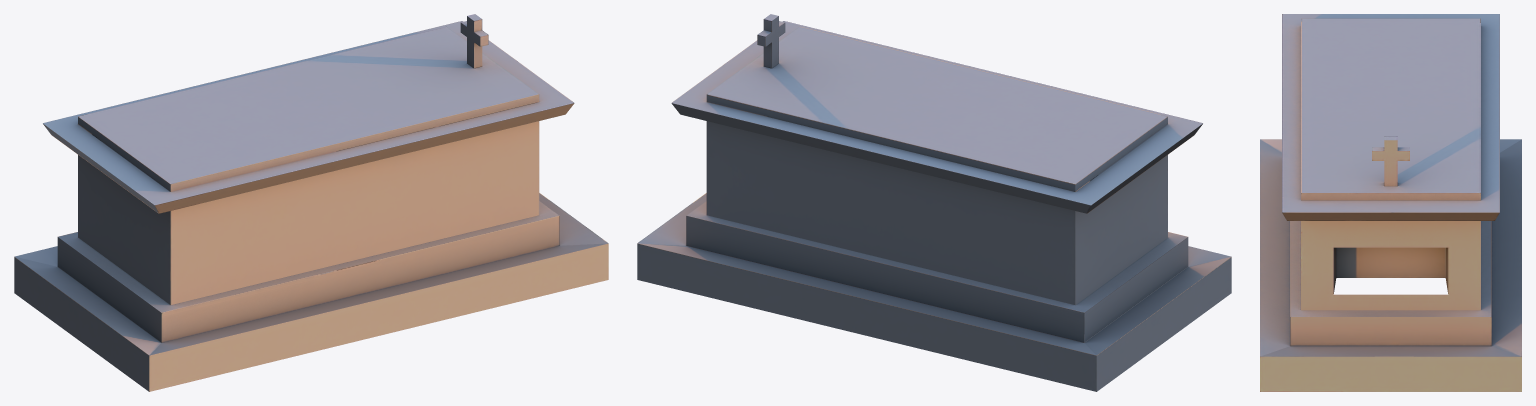
File: 05mid.glb
3 views of the same model, side by side, from view 1: azimuth 30°, elevation 25°; view 2: azimuth 150°, elevation 25°; view 3: azimuth 270°, elevation 25° (orthographic). The views are drawn at different scales.
Parts seen in each view (by area): view 1: Tombe5 mid; view 2: Tombe5 mid; view 3: Tombe5 mid.
Part boxes in pixels (box(x1,y1,x2,y2)): Tombe5 mid: box(14, 14, 608, 391); Tombe5 mid: box(637, 14, 1231, 391); Tombe5 mid: box(1260, 14, 1521, 391).
Bounding box in the file's own units: 2.22 × 1.06 × 1.13.
Materials: 1 (1 with a texture image).
